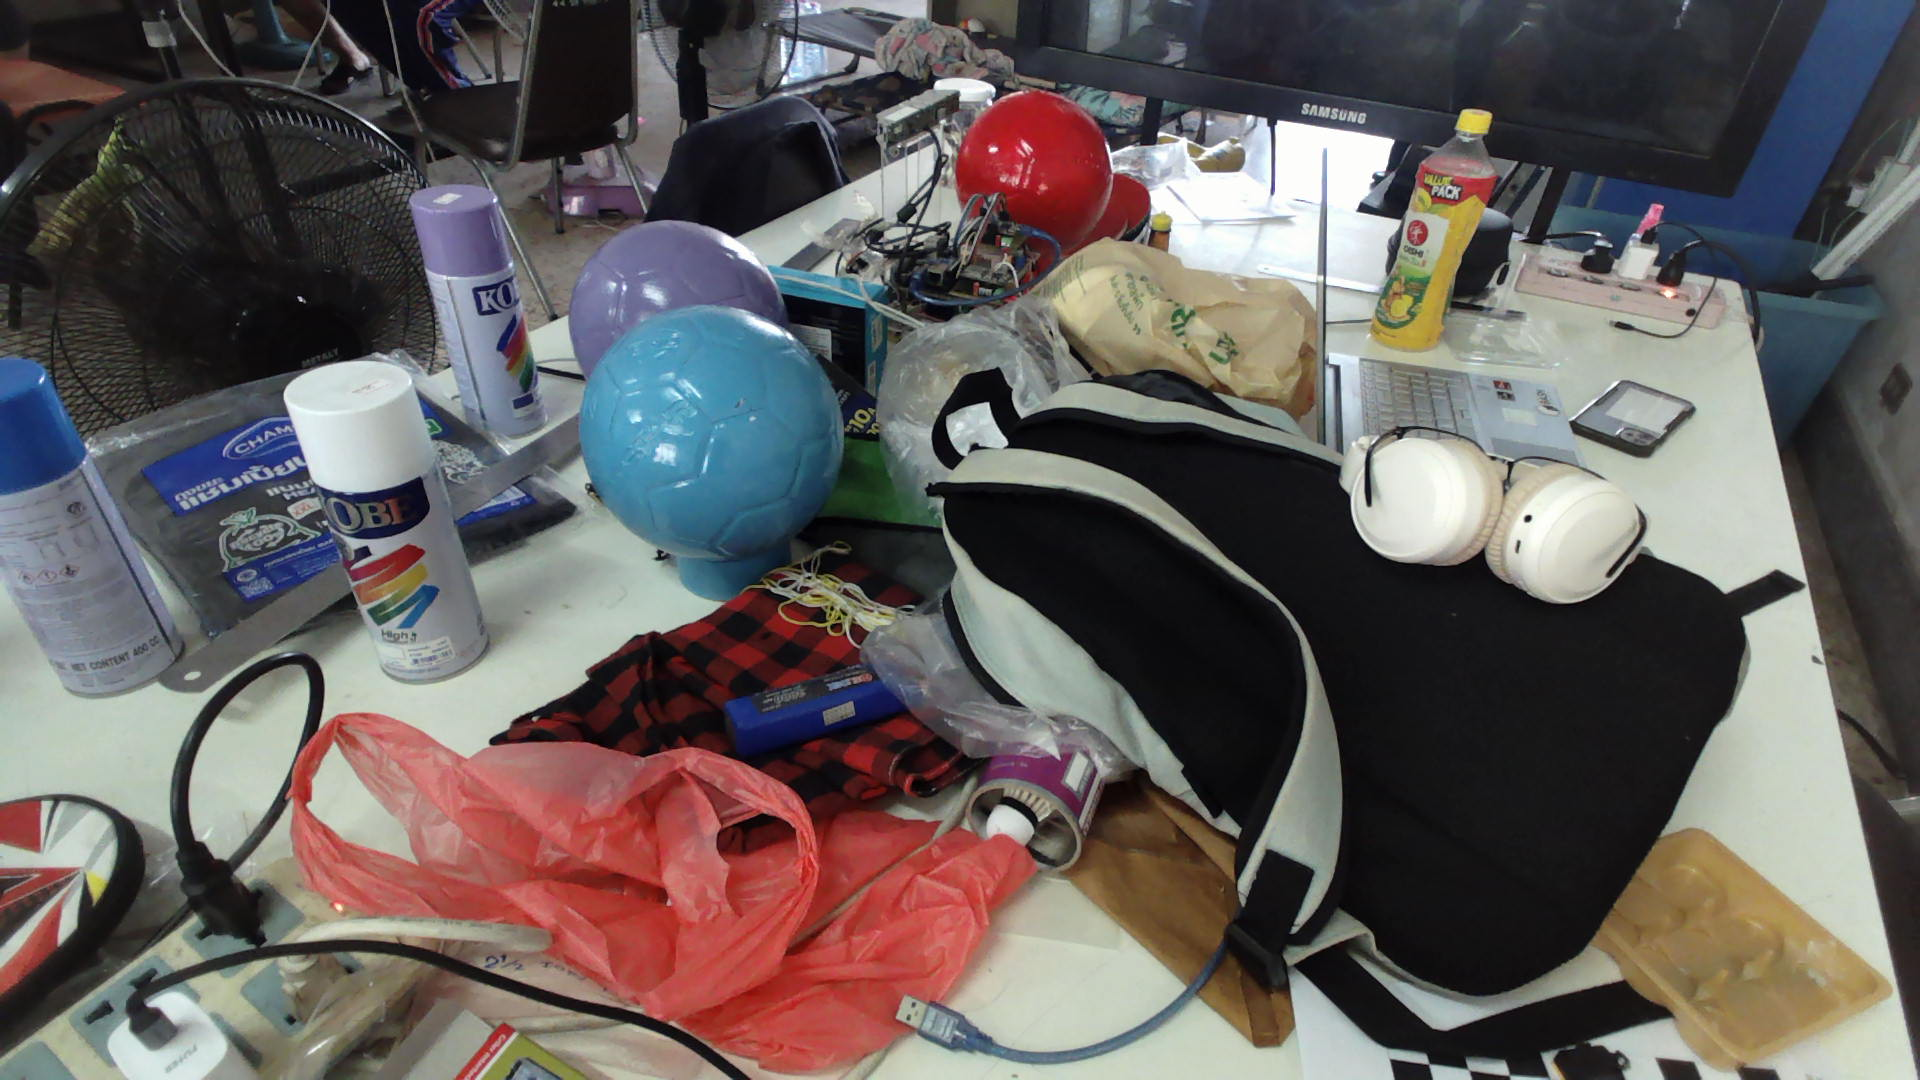Blue ball: (576, 305, 848, 563)
Purple ball: (567, 216, 790, 343)
Red ball: (953, 88, 1116, 244)
